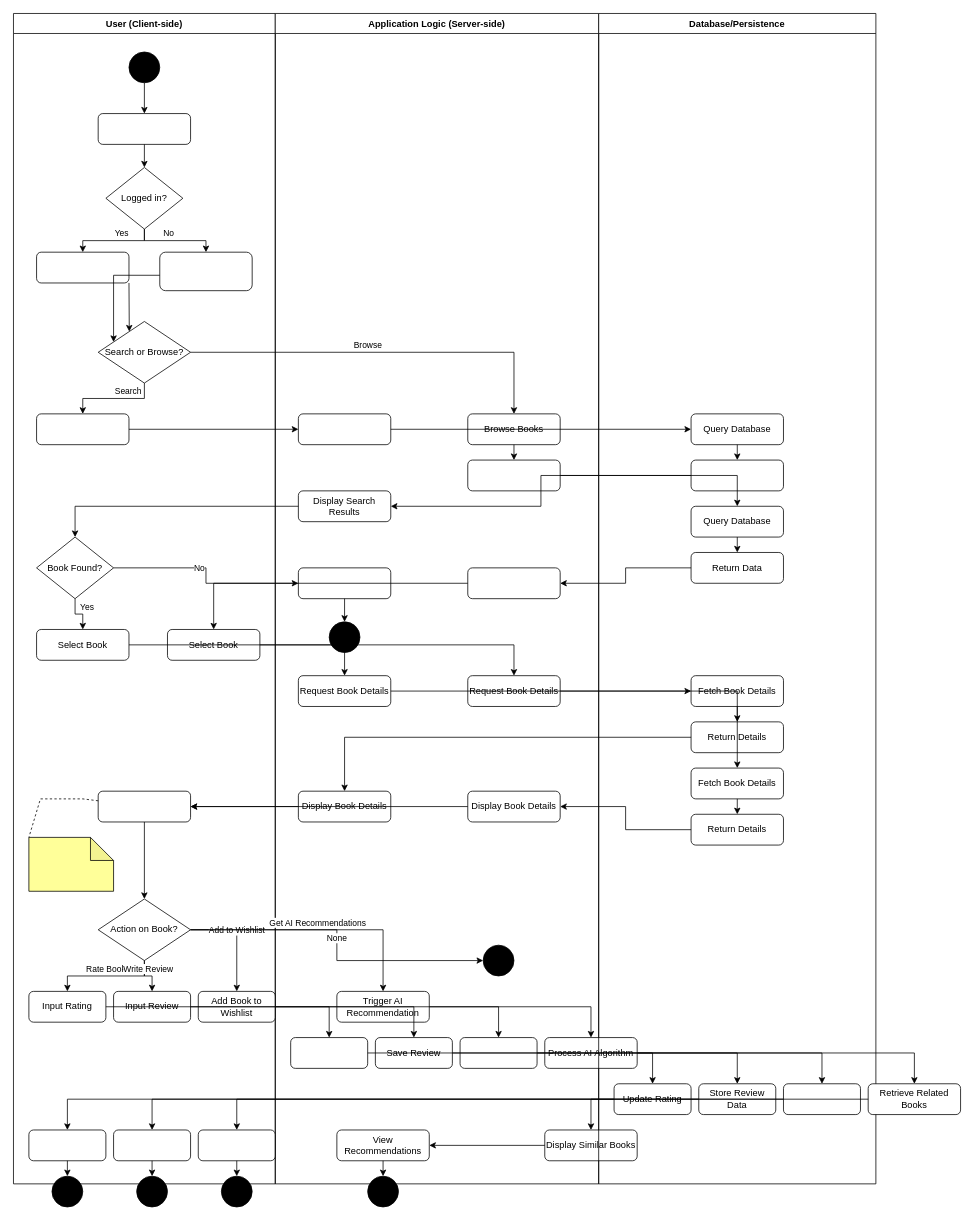
This 974x1220 diagram has some shape labels left out. Each missing label, with the centre of its shape:
Confirm Rating: point (67, 1145)
Confirm Wishlist Addition: point (236, 1145)
Display "No Results Found": point (344, 583)
Display Books: point (513, 583)
Displays synopsis, author, genres, avg. rating, etc.: point (71, 864)
Fetch Browsing Data: point (513, 475)
Proceed to app: point (82, 267)
Prompt for login/registration: point (205, 271)
Return Results: point (736, 475)
Review Published: point (152, 1145)
Search Books: point (344, 429)
Store Wishlist Data: point (821, 1099)
Submit Rating: point (329, 1052)
Update Wishlist: point (498, 1052)
User enters search query: point (82, 429)
User logs in: point (144, 128)
View Book Details: point (144, 806)
